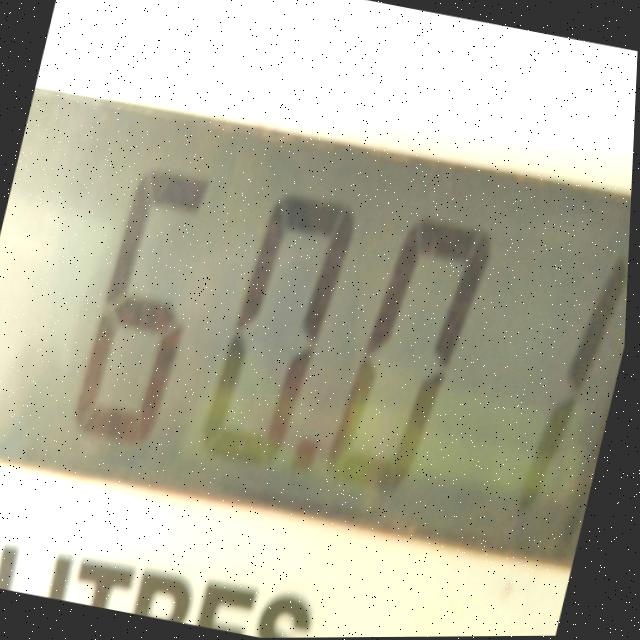.: (300, 441, 322, 481)
0: (328, 209, 496, 495), (209, 200, 355, 470)
1: (524, 254, 626, 520)
6: (80, 170, 218, 441)
